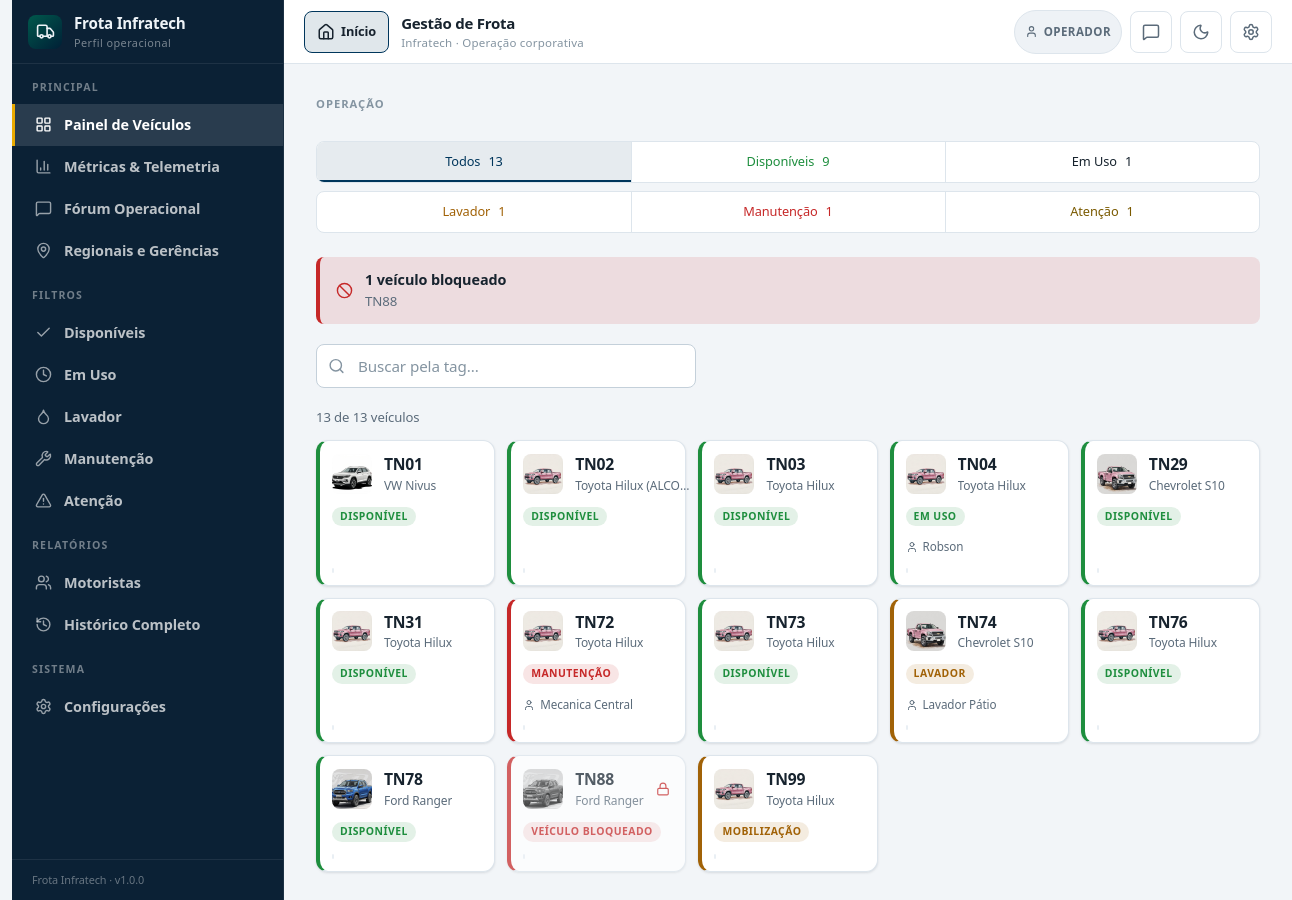
Test: Aplicação — operação › as duas barras filtram a frota
Expected: the element named "Frota Infratech" is shown, x1=12 y1=0 x2=284 y2=899
Expected: the radio button labelled "Todos 13" is checked, x1=317 y1=142 x2=631 y2=182
Click the radio button labelled "Em Uso 1".
click(1102, 162)  # box x1=945 y1=142 x2=1259 y2=182
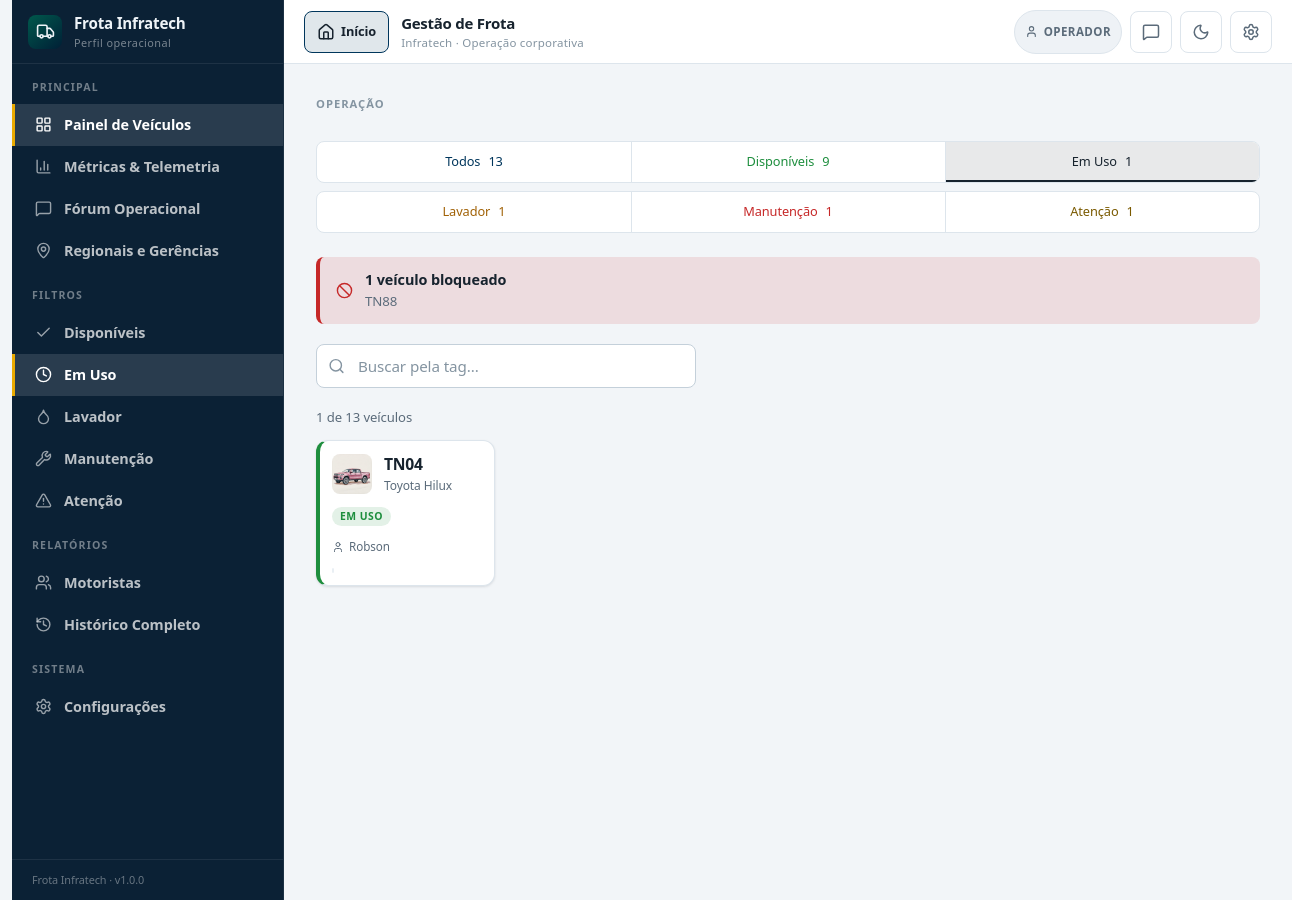
Expected: the text "1 de 13 veículos" is shown, x1=316 y1=408 x2=412 y2=426
Click the radio button labelled "Atenção 1".
click(1102, 212)  # box x1=945 y1=192 x2=1259 y2=232
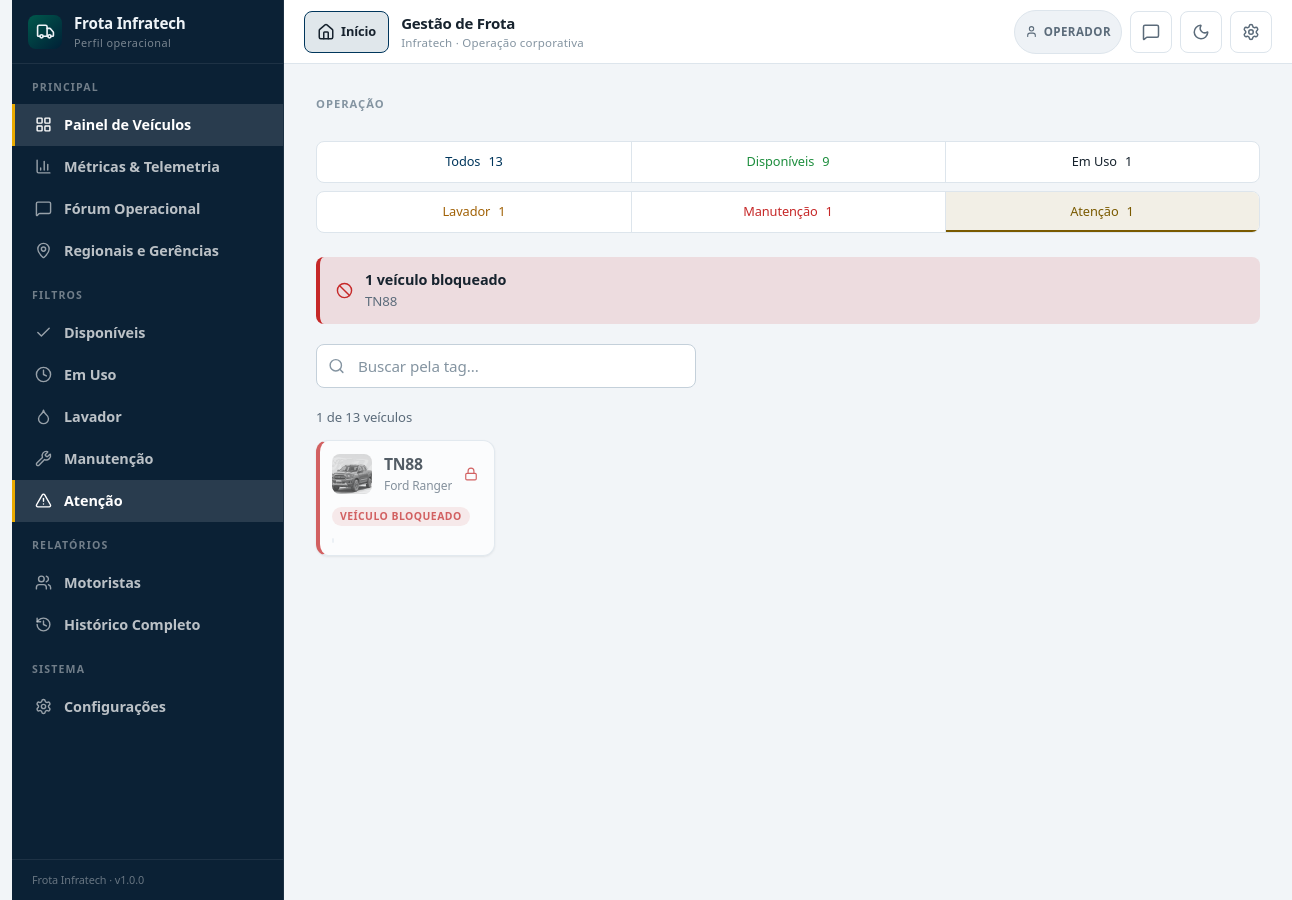
Expected: the button "TN01" is not shown
Expected: the text "1 de 13 veículos" is shown, x1=316 y1=408 x2=412 y2=426
Expected: the button "TN88 Ford Ranger Veículo Bloqueado" is shown, x1=316 y1=440 x2=495 y2=556
